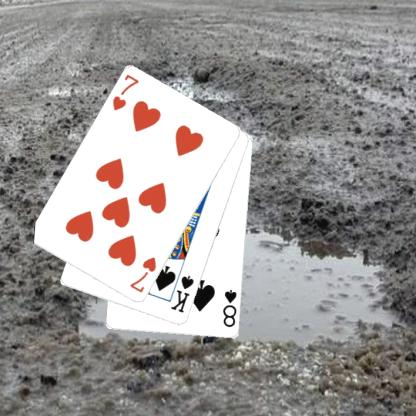7H: (127, 254, 157, 295), (110, 72, 140, 112)
8S: (220, 287, 238, 329)
KS: (168, 273, 196, 314)
